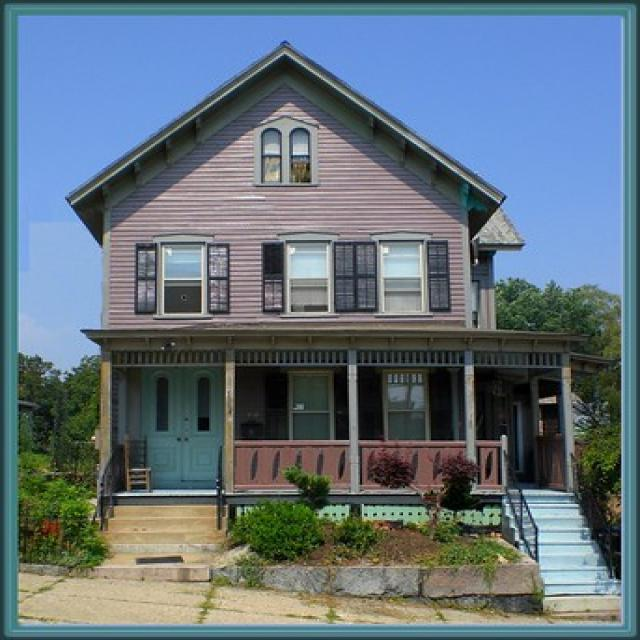building: (60, 37, 621, 616)
